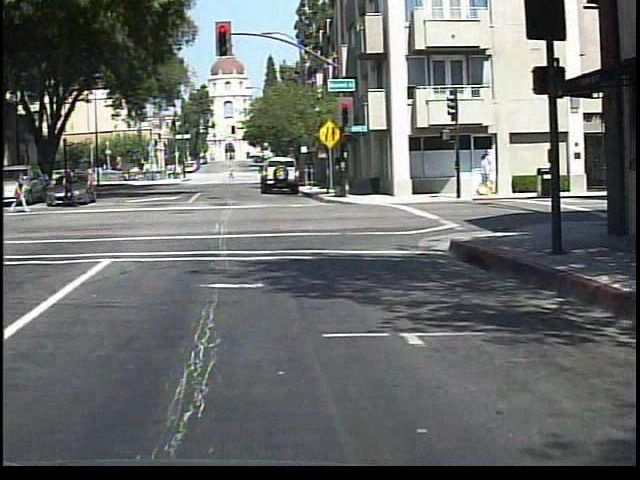person: (10, 169, 34, 219), (59, 167, 83, 210), (230, 166, 240, 183)
